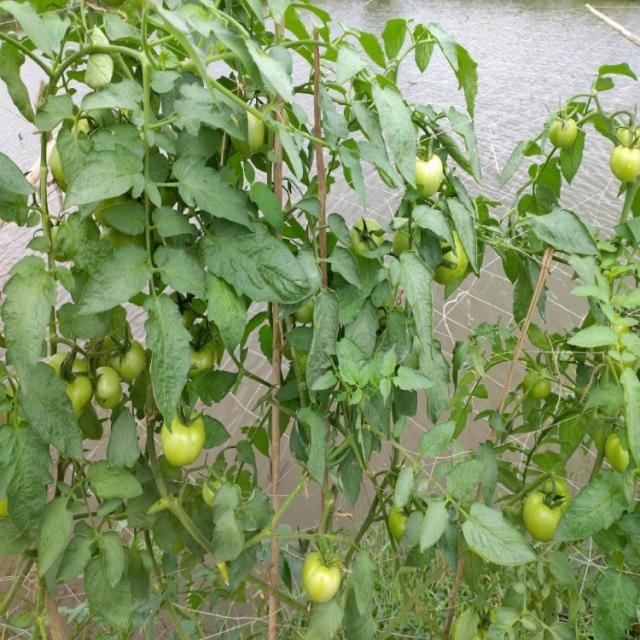tomato: (52, 350, 94, 419), (162, 407, 209, 464), (525, 480, 571, 538), (301, 548, 346, 603), (438, 225, 478, 280), (413, 147, 451, 203), (235, 105, 273, 158), (187, 322, 219, 380), (613, 123, 640, 186), (350, 215, 385, 263), (117, 332, 150, 378), (546, 116, 585, 154), (602, 427, 633, 472), (50, 145, 73, 197), (608, 325, 633, 370), (96, 364, 116, 411), (390, 221, 418, 254), (202, 470, 229, 504), (524, 367, 552, 399), (393, 505, 418, 540), (291, 299, 310, 330)
